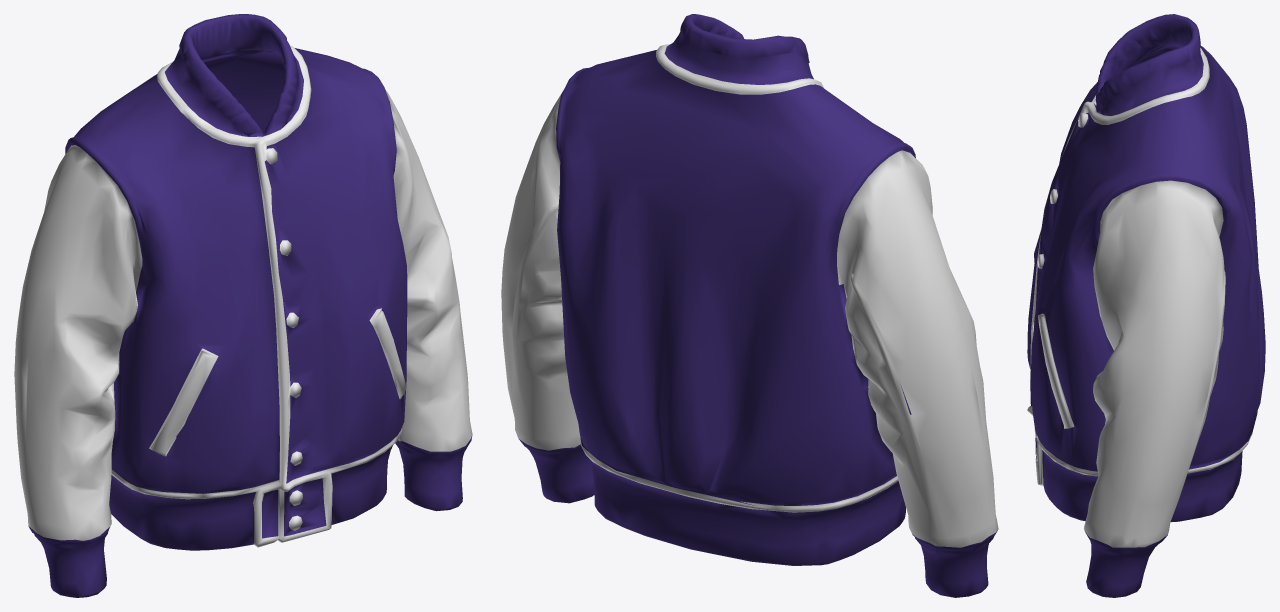
File: Modelo 3D Varsity.glb
The picture shows the model from 3 angles, left to right: view 1: azimuth 30°, elevation 25°; view 2: azimuth 150°, elevation 25°; view 3: azimuth 270°, elevation 25°; orthographic projection. The views are drawn at different scales.
Parts seen in each view (by area): view 1: texture_pbr_v128; view 2: texture_pbr_v128; view 3: texture_pbr_v128.
Part boxes in pixels (bbox=[...]): texture_pbr_v128: bbox=[14, 14, 472, 597]; texture_pbr_v128: bbox=[501, 14, 998, 597]; texture_pbr_v128: bbox=[1027, 14, 1265, 597].
Size of the model in its own units: 0.8725 by 0.9459 by 0.4318.
